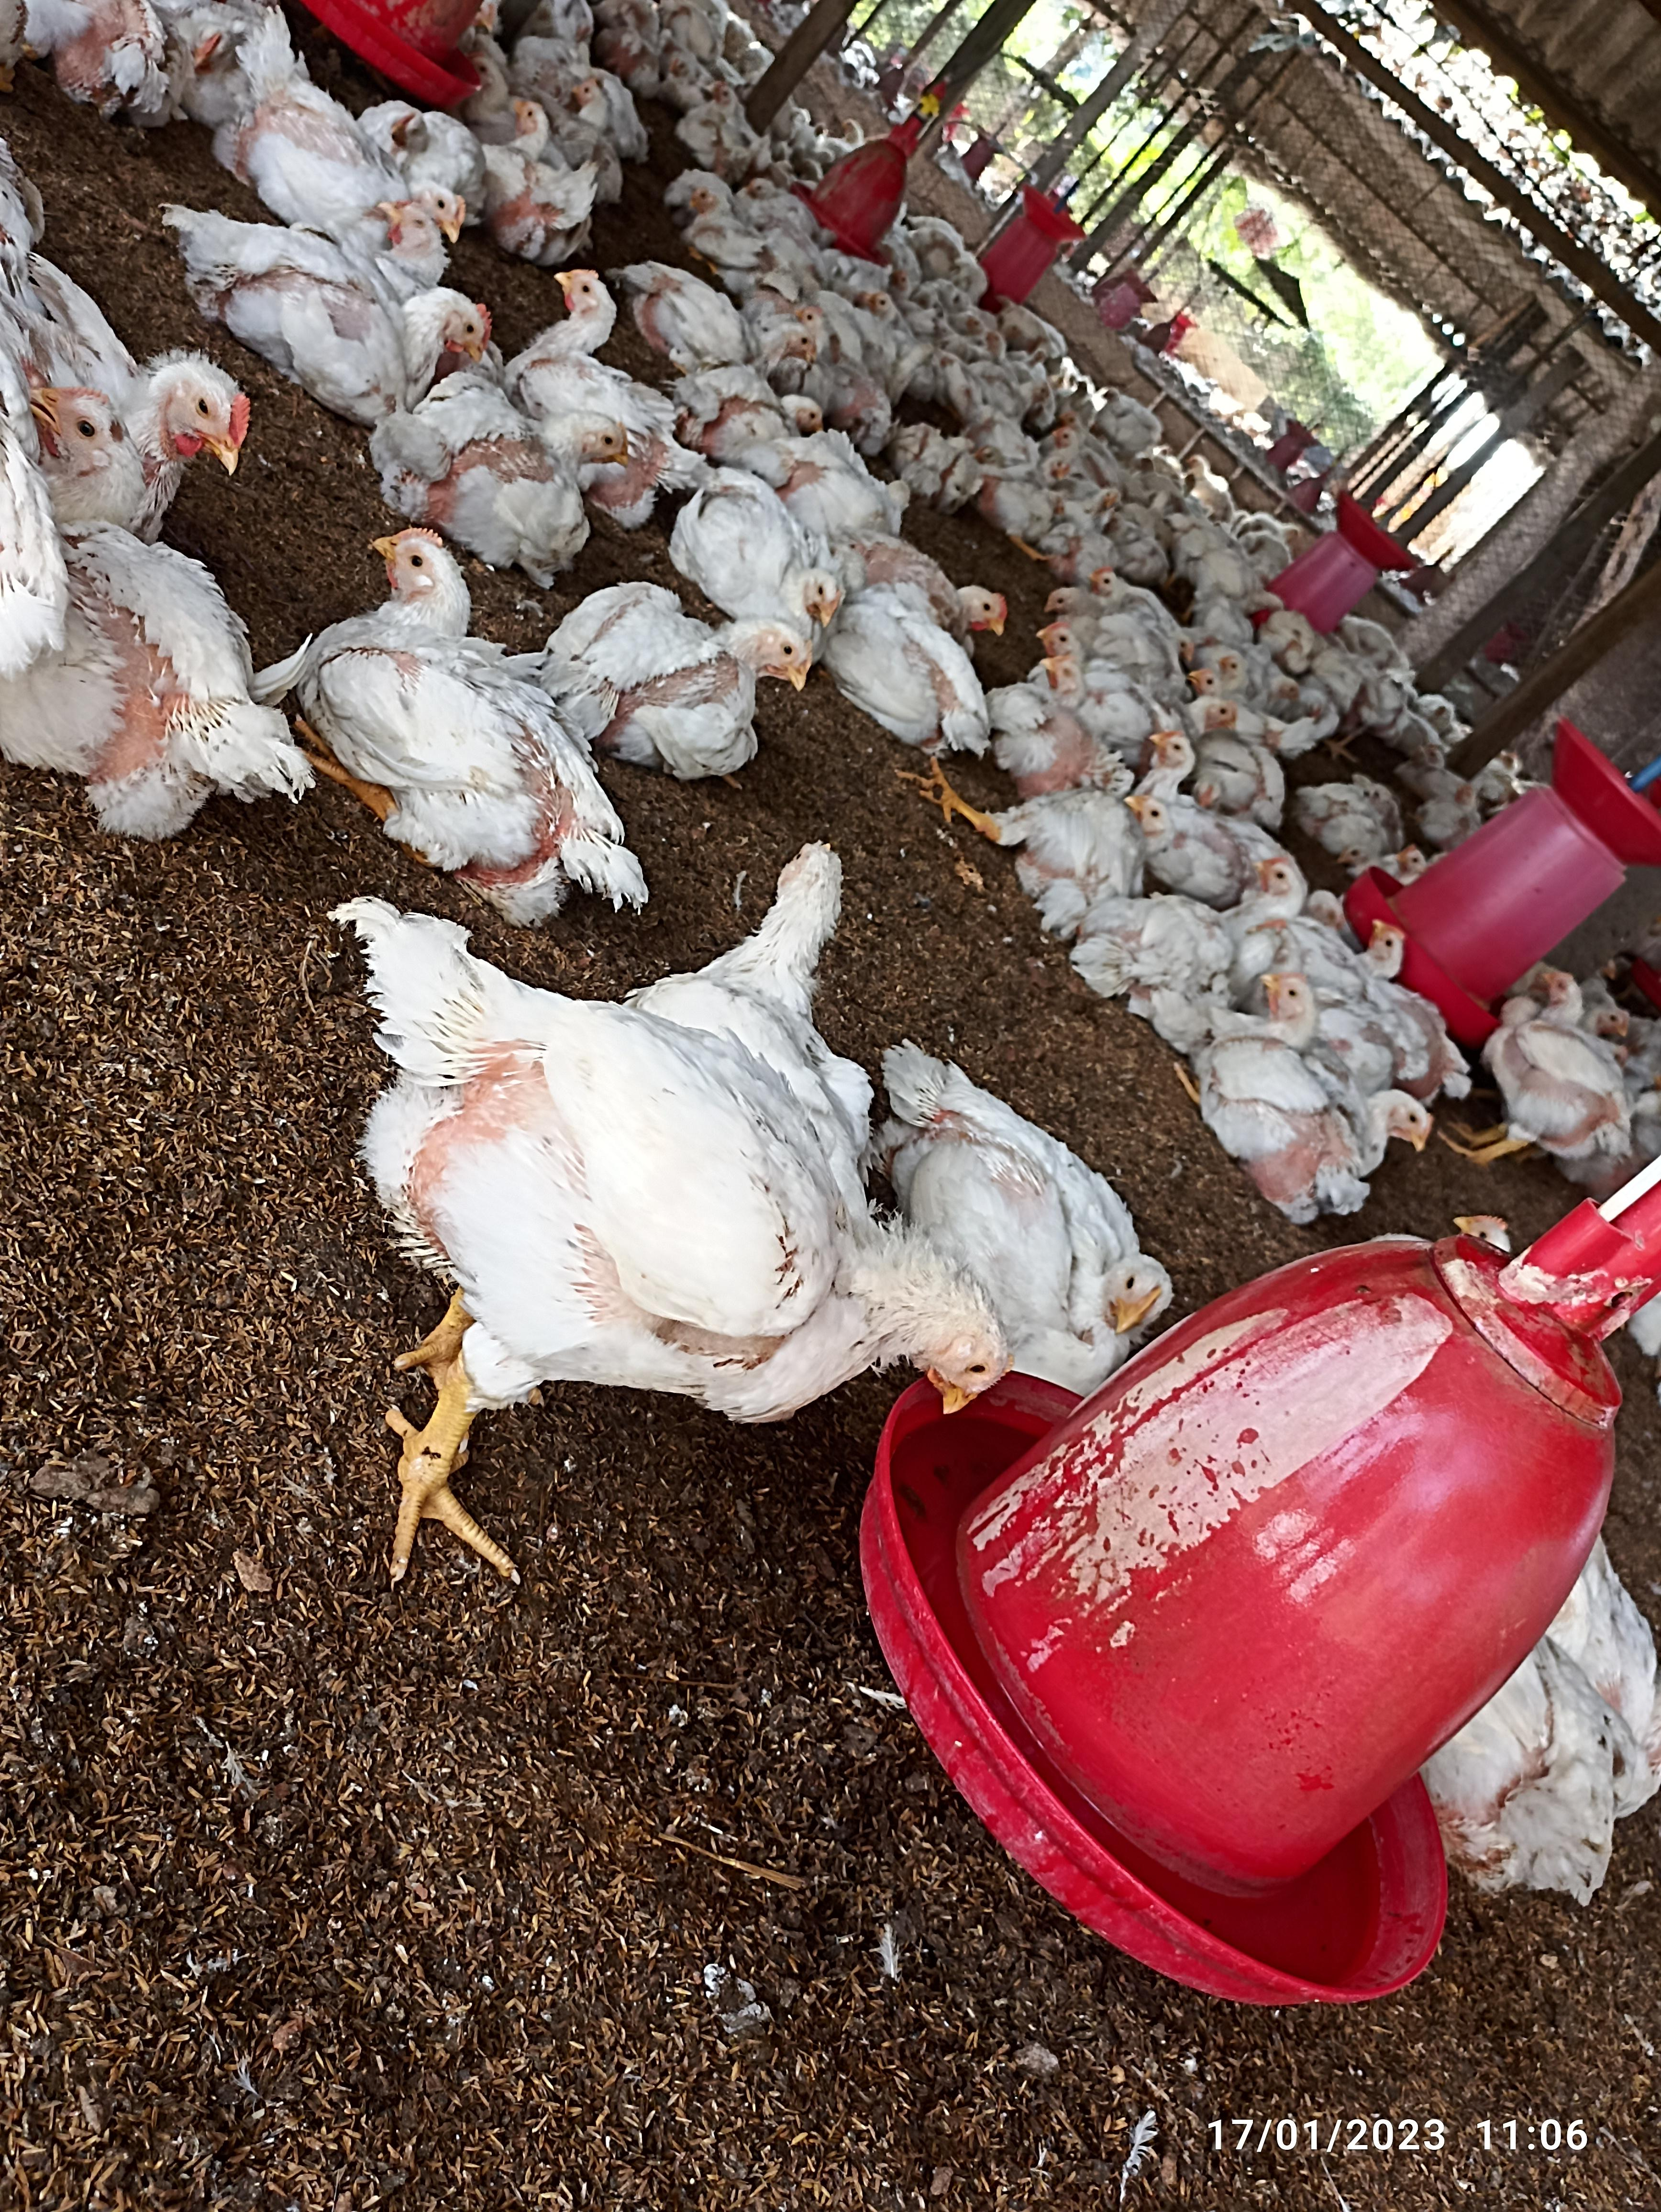Pollos: (345, 937, 981, 1413), (305, 520, 635, 904), (902, 1052, 1169, 1326), (1202, 1045, 1432, 1214), (558, 600, 818, 741), (218, 253, 497, 365), (1490, 961, 1651, 1153), (389, 401, 642, 520), (504, 267, 677, 419), (1220, 857, 1350, 991), (858, 536, 1010, 637), (707, 492, 844, 600), (1042, 647, 1139, 792)
